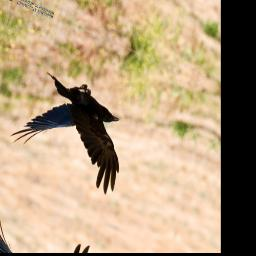Crow: (4, 60, 142, 200)
